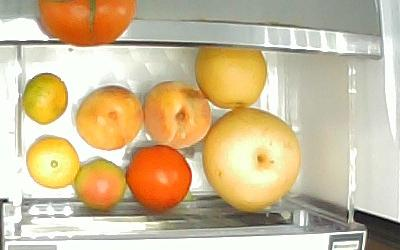peach: (141, 79, 211, 148), (75, 83, 145, 150)
pear: (200, 106, 301, 212), (193, 45, 267, 107)
tangerine: (25, 134, 79, 188), (21, 71, 68, 124)
tomato: (124, 144, 192, 210), (73, 156, 126, 211)
